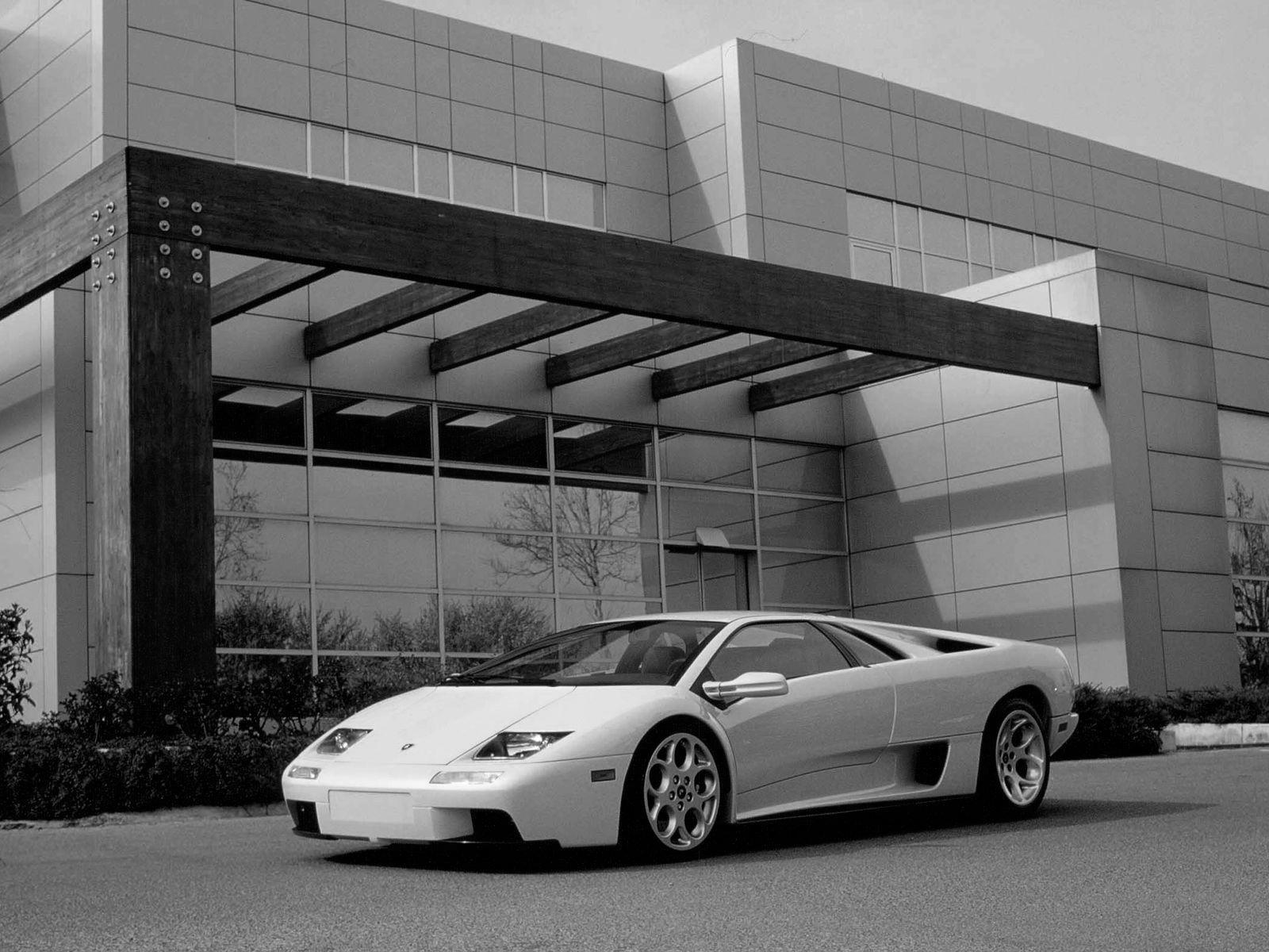car: (215, 565, 1133, 898)
